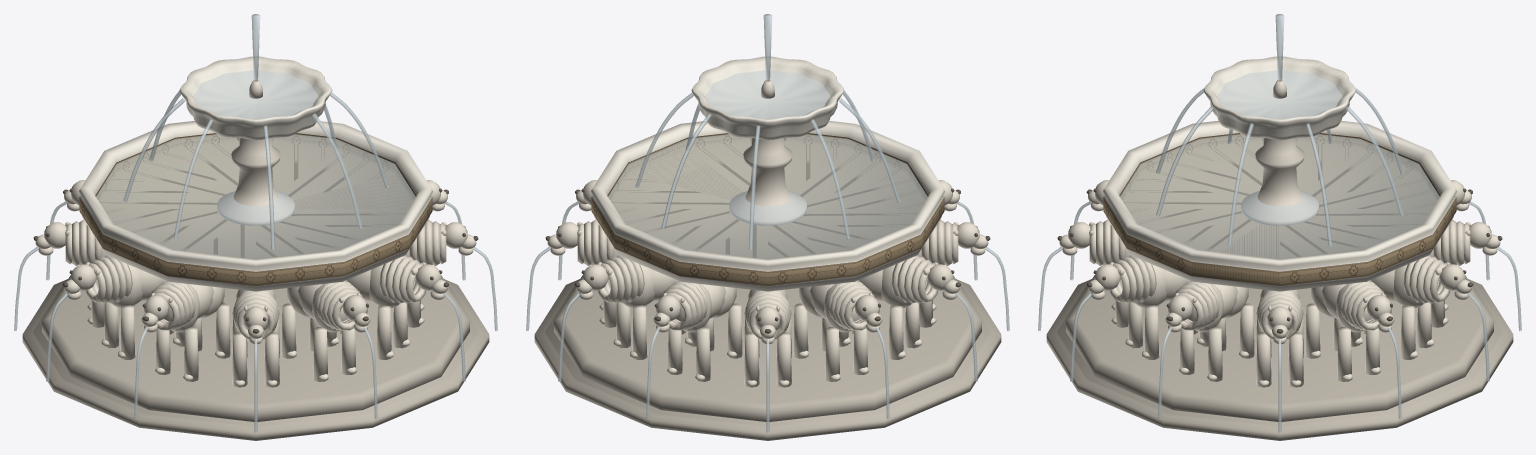
Rendered from alhambra-lion-fountain.glb.
3 views of the same model, side by side, from view 1: azimuth 30°, elevation 25°; view 2: azimuth 150°, elevation 25°; view 3: azimuth 270°, elevation 25° (orthographic).
Visible parts, largest first — view 1: MainBasin, Plinth, Water_Basin, StepRing, UpperBasin, Lion_08, Lion_10, Lion_07, Lion_11, Water_Upper, CentralColumn, Lion_09 (+8 smaller); view 2: MainBasin, Plinth, Water_Basin, StepRing, UpperBasin, Lion_04, Lion_06, Lion_03, Lion_07, Water_Upper, CentralColumn, Lion_05 (+8 smaller); view 3: MainBasin, Plinth, Water_Basin, StepRing, UpperBasin, Lion_12, Lion_02, Lion_03, Lion_11, Water_Upper, CentralColumn, Lion_01 (+7 smaller).
Boxes of the visible parts, bbox=[...] form: MainBasin: bbox=[79, 121, 432, 291]; Plinth: bbox=[42, 275, 469, 421]; Water_Basin: bbox=[96, 134, 415, 259]; StepRing: bbox=[22, 279, 489, 440]; UpperBasin: bbox=[179, 56, 332, 140]; Lion_08: bbox=[141, 281, 230, 381]; Lion_10: bbox=[281, 281, 370, 381]; Lion_07: bbox=[63, 255, 184, 359]; Lion_11: bbox=[327, 255, 448, 359]; Water_Upper: bbox=[193, 70, 318, 119]; CentralColumn: bbox=[217, 138, 294, 225]; Lion_09: bbox=[232, 289, 279, 387]; MainBasin: bbox=[591, 121, 944, 291]; Plinth: bbox=[554, 275, 981, 421]; Water_Basin: bbox=[608, 134, 927, 259]; StepRing: bbox=[534, 279, 1001, 440]; UpperBasin: bbox=[691, 56, 844, 140]; Lion_04: bbox=[653, 281, 742, 381]; Lion_06: bbox=[793, 281, 882, 381]; Lion_03: bbox=[575, 255, 696, 359]; Lion_07: bbox=[839, 255, 960, 359]; Water_Upper: bbox=[705, 70, 830, 119]; CentralColumn: bbox=[729, 138, 806, 225]; Lion_05: bbox=[744, 289, 791, 387]; MainBasin: bbox=[1102, 120, 1457, 291]; Plinth: bbox=[1066, 275, 1493, 421]; Water_Basin: bbox=[1120, 134, 1439, 258]; StepRing: bbox=[1046, 279, 1513, 440]; UpperBasin: bbox=[1203, 56, 1356, 140]; Lion_12: bbox=[1165, 280, 1254, 381]; Lion_02: bbox=[1305, 280, 1394, 381]; Lion_03: bbox=[1351, 255, 1473, 359]; Lion_11: bbox=[1087, 255, 1208, 359]; Water_Upper: bbox=[1217, 70, 1342, 119]; CentralColumn: bbox=[1241, 138, 1318, 225]; Lion_01: bbox=[1256, 289, 1303, 387].
Size of the model in its own units: 3.73 by 2.78 by 3.73.
Materials: 6 (1 with a texture image).
